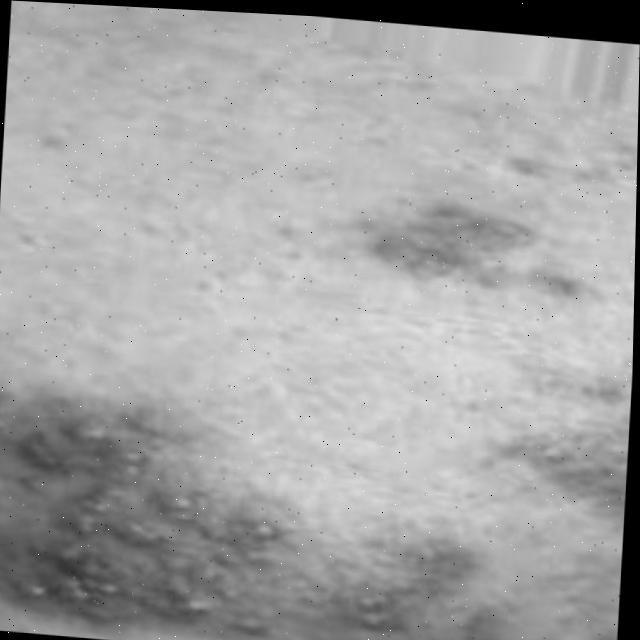Shingles: (0, 398, 469, 640), (504, 376, 631, 507), (400, 194, 527, 286)
